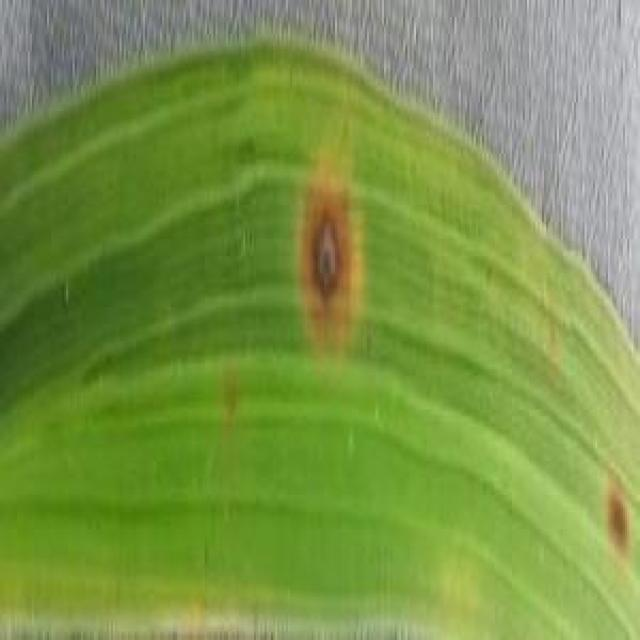Brown_Spot: (288, 154, 370, 350), (598, 470, 635, 560)
